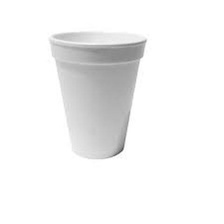paper_cup: (43, 26, 151, 163)
